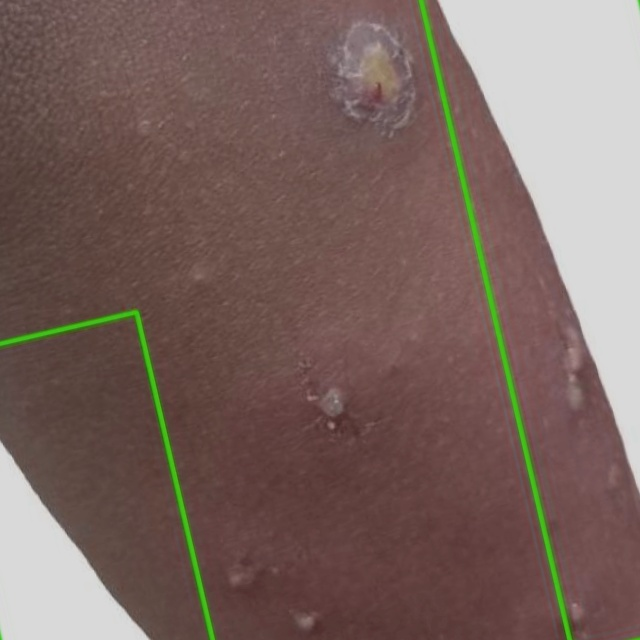Scabies: (0, 311, 212, 639)
